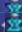recallP: (5, 13, 22, 32), (5, 0, 22, 13), (0, 0, 5, 13)
